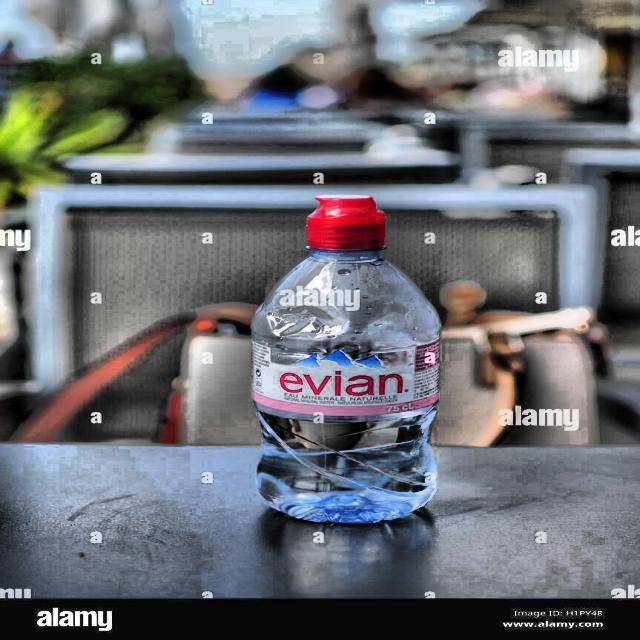Bottles: (246, 188, 445, 539)
